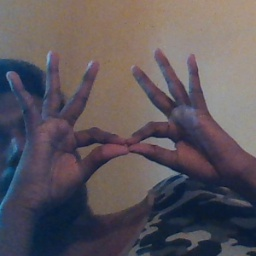B: (56, 88, 193, 194)
